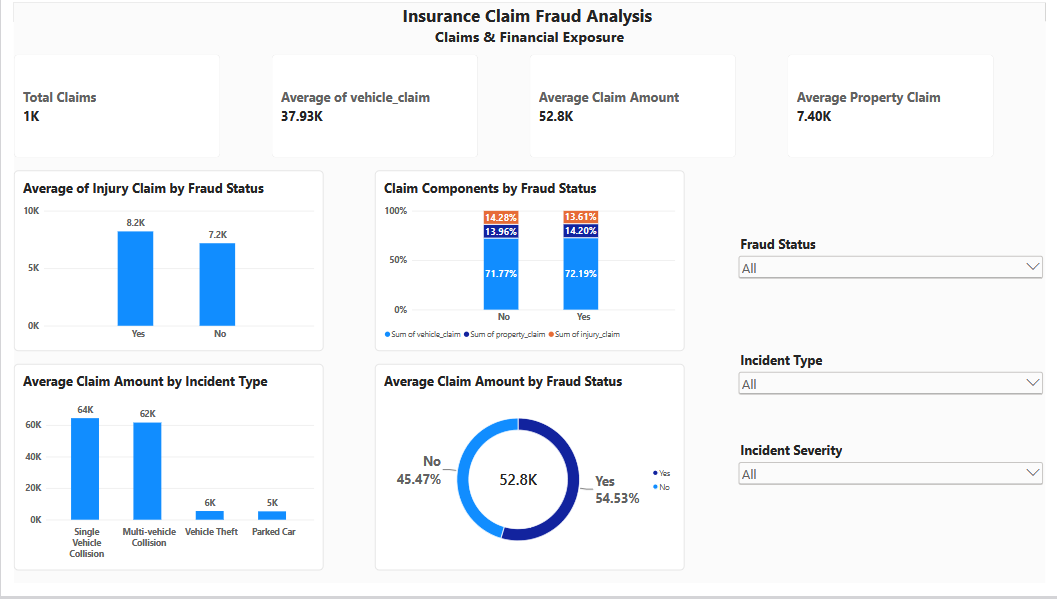

This screenshot's page, from the dashboard's own definition file:
{"tool":"powerbi","page":{"name":"Page 5","canvas":[1920,1080],"ordinal":4},"visuals":[{"type":"cardVisual","fields":{"Data":["Avg(insurance_claims.property_claim)"]},"box":[1440,96,384,192],"z":0},{"type":"cardVisual","fields":{"Data":["insurance_claims.Average Claim Amount"]},"box":[960,96,384,192],"z":1},{"type":"cardVisual","fields":{"Data":["Avg(insurance_claims.vehicle_claim)"]},"box":[480,96,384,192],"z":2},{"type":"cardVisual","fields":{"Data":["insurance_claims.Total Claims"]},"box":[0,96,384,192],"z":3},{"type":"clusteredColumnChart","title":"Average Claim Amount by Incident Type","fields":{"Category":["insurance_claims.incident_type"],"Y":["insurance_claims.Average Claim Amount"]},"box":[0,672,576,384],"z":4},{"type":"donutChart","fields":{"Category":["insurance_claims.Fraud Status"],"Y":["insurance_claims.Average Claim Amount"]},"box":[672,672,576,384],"z":5},{"type":"clusteredColumnChart","title":"Average of Injury Claim by Fraud Status","fields":{"Category":["insurance_claims.Fraud Status"],"Y":["Avg(insurance_claims.injury_claim)"]},"box":[0,312,576,336],"z":6},{"type":"hundredPercentStackedColumnChart","title":"Claim Components by Fraud Status","fields":{"Category":["insurance_claims.Fraud Status"],"Y":["Sum(insurance_claims.vehicle_claim)","Sum(insurance_claims.property_claim)","Sum(insurance_claims.injury_claim)"]},"box":[672,312,576,336],"z":7},{"type":"slicer","fields":{"Values":["insurance_claims.Fraud Status"]},"box":[1344,432,576,144],"z":8},{"type":"slicer","fields":{"Values":["insurance_claims.incident_type"]},"box":[1344,648,576,120],"z":9},{"type":"slicer","fields":{"Values":["insurance_claims.incident_severity"]},"box":[1344,816,576,120],"z":10},{"type":"textbox","box":[96,0,1728,96],"z":11}]}

Visuals, with their boxes in screenshot pixels (x1, y1, x2, y2), scaled from the page's 1920x1080 canvas onto the 1057x599 screenshot:
cardVisual - Avg(insurance_claims.property_claim): 793 53 1004 160
cardVisual - insurance_claims.Average Claim Amount: 528 53 740 160
cardVisual - Avg(insurance_claims.vehicle_claim): 264 53 476 160
cardVisual - insurance_claims.Total Claims: 0 53 211 160
"Average Claim Amount by Incident Type" clusteredColumnChart: 0 373 317 586
donutChart - insurance_claims.Fraud Status x insurance_claims.Average Claim Amount: 370 373 687 586
"Average of Injury Claim by Fraud Status" clusteredColumnChart: 0 173 317 359
"Claim Components by Fraud Status" hundredPercentStackedColumnChart: 370 173 687 359
slicer - insurance_claims.Fraud Status: 740 240 1056 319
slicer - insurance_claims.incident_type: 740 359 1056 426
slicer - insurance_claims.incident_severity: 740 453 1056 519
textbox: 53 0 1004 53
